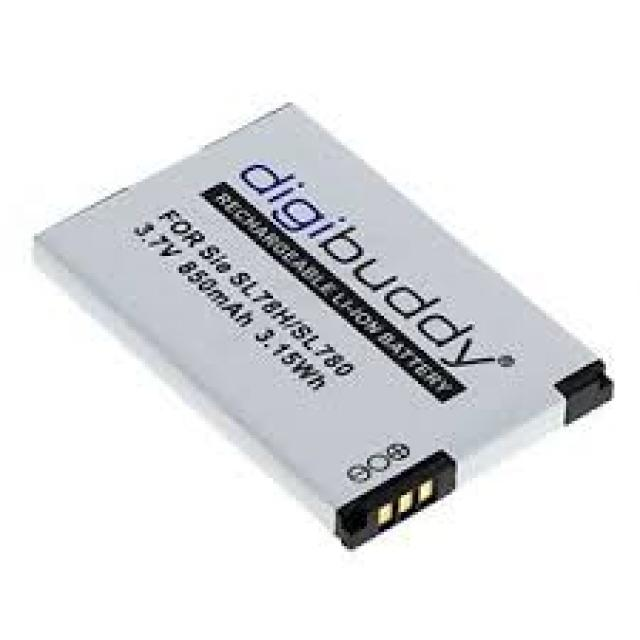non-organic waste: (32, 103, 614, 550)
